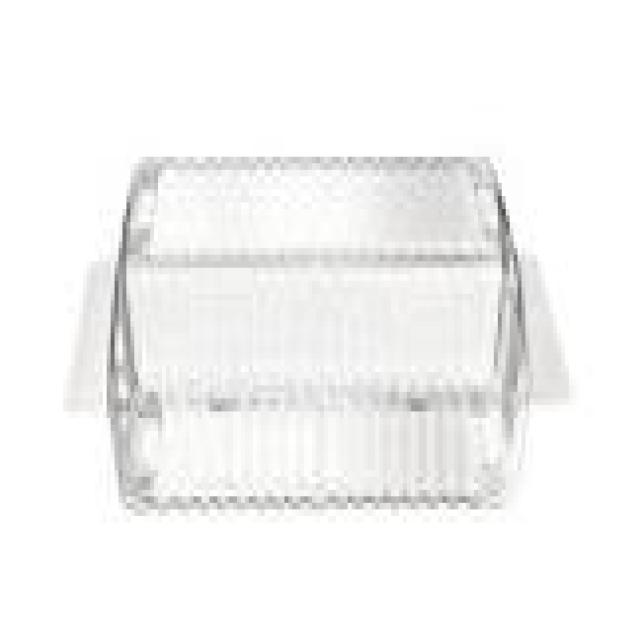Clamshell: (59, 136, 573, 528)
